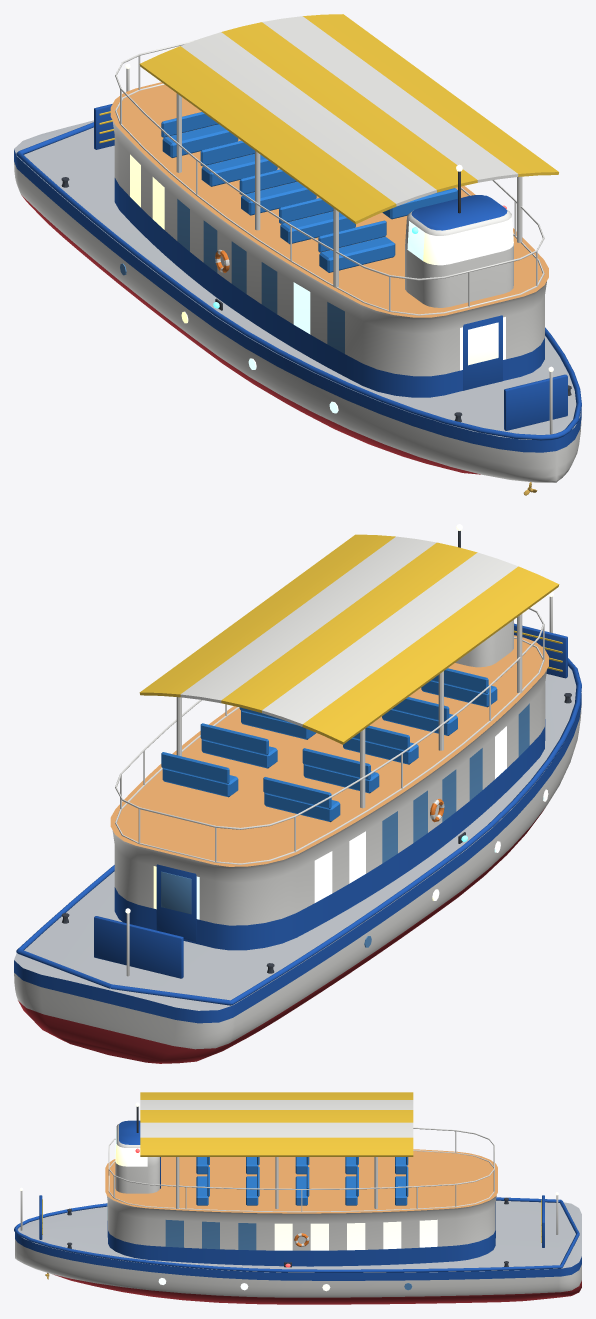
The model's file is balsa_passageiros.glb.
3 renders of one model, top to bottom at view 1: azimuth 30°, elevation 25°; view 2: azimuth 150°, elevation 25°; view 3: azimuth 270°, elevation 25°, orthographic. The views are drawn at different scales.
Visible parts, largest first — view 1: balsa_passageiros, porta_salao_1, rampa_1, rampa_2; view 2: balsa_passageiros, rampa_2, porta_salao_2, rampa_1; view 3: balsa_passageiros.
Boxes of the visible parts, x1,y1,x2,y2 form: balsa_passageiros: (14, 14, 581, 482); porta_salao_1: (463, 315, 502, 390); rampa_1: (504, 374, 567, 430); rampa_2: (94, 104, 114, 149); balsa_passageiros: (14, 524, 581, 1063); rampa_2: (94, 916, 183, 978); porta_salao_2: (156, 864, 196, 941); rampa_1: (514, 623, 567, 678); balsa_passageiros: (14, 1092, 581, 1304).
Bounding box in the file's own units: 7.46 × 7.85 × 22.88.
Materials: 7 (1 with a texture image).
